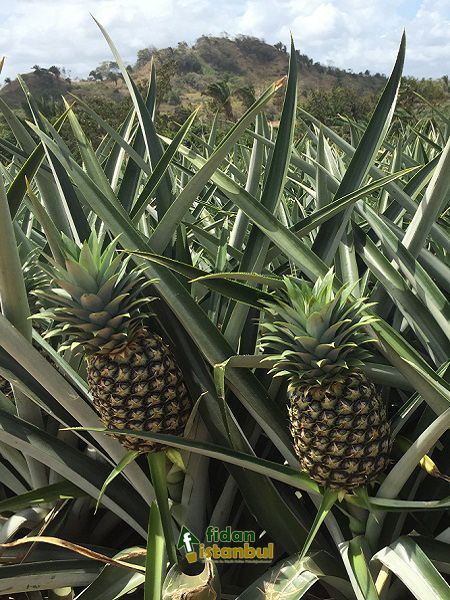pineapple: (66, 334, 215, 458), (275, 370, 399, 498)
